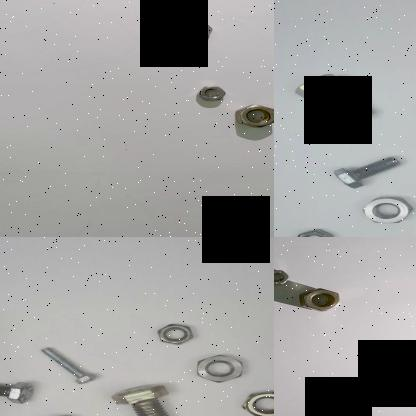Bolts: (288, 69, 378, 122), (31, 342, 104, 387), (326, 151, 406, 189), (109, 379, 183, 416), (0, 375, 33, 407)
NUTS: (360, 192, 412, 230), (190, 350, 250, 382), (152, 318, 202, 350), (296, 288, 346, 316), (230, 103, 274, 129), (234, 390, 274, 416), (172, 19, 216, 41), (194, 84, 228, 102), (290, 224, 337, 237)
